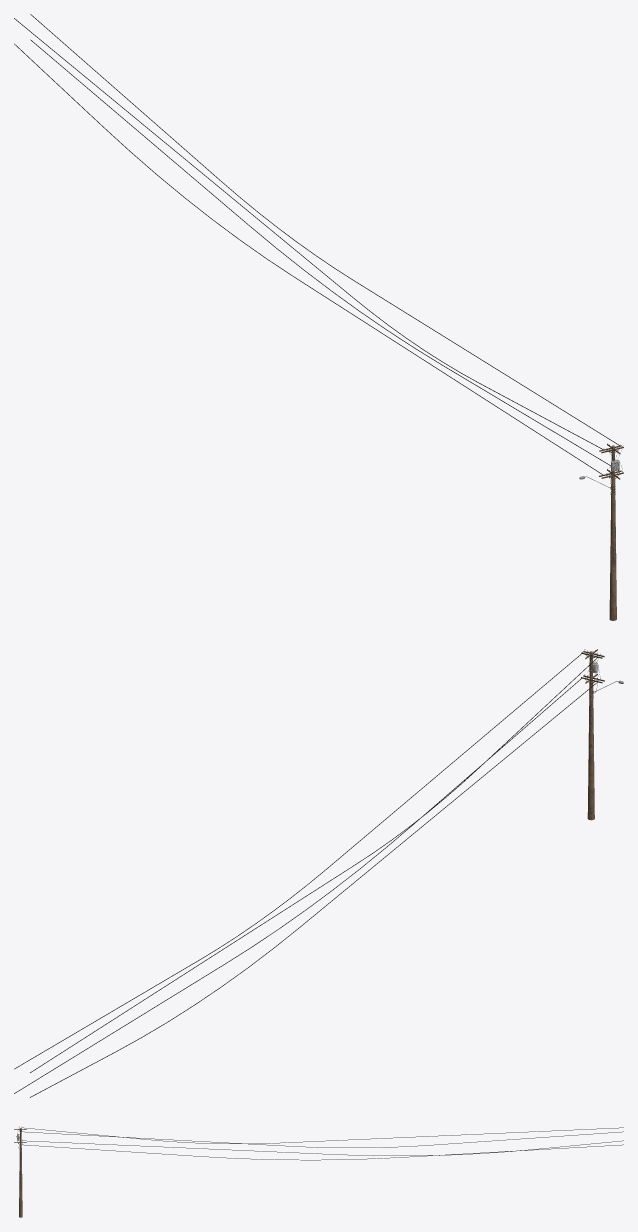
The model's file is Prop_Lamp_Post.fbx.
3 renders of one model, top to bottom at view 1: azimuth 30°, elevation 25°; view 2: azimuth 150°, elevation 25°; view 3: azimuth 270°, elevation 25°, orthographic. The views are drawn at different scales.
Visible parts, largest first — view 1: Prop_Lamp_Post; view 2: Prop_Lamp_Post; view 3: Prop_Lamp_Post.
Boxes of the visible parts, x1,y1,x2,y2 form: Prop_Lamp_Post: [14, 14, 623, 620]; Prop_Lamp_Post: [14, 649, 623, 1097]; Prop_Lamp_Post: [14, 1126, 623, 1217].
Bounding box in the file's own units: 76.87 × 295 × 1846.
